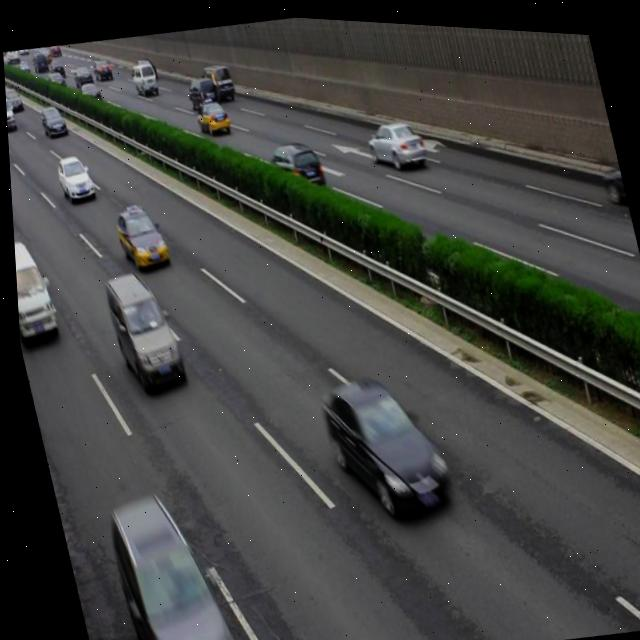car: (312, 361, 453, 526), (97, 485, 235, 640), (111, 199, 169, 272), (361, 110, 426, 170), (265, 132, 325, 194), (54, 153, 94, 203), (192, 94, 230, 134), (38, 105, 66, 137), (130, 56, 156, 82), (77, 79, 102, 103), (70, 63, 93, 87), (91, 58, 112, 82), (4, 86, 21, 111)
truck: (98, 266, 184, 395), (11, 236, 57, 345), (198, 59, 235, 100), (183, 71, 219, 112), (128, 59, 158, 96), (4, 93, 15, 130)
